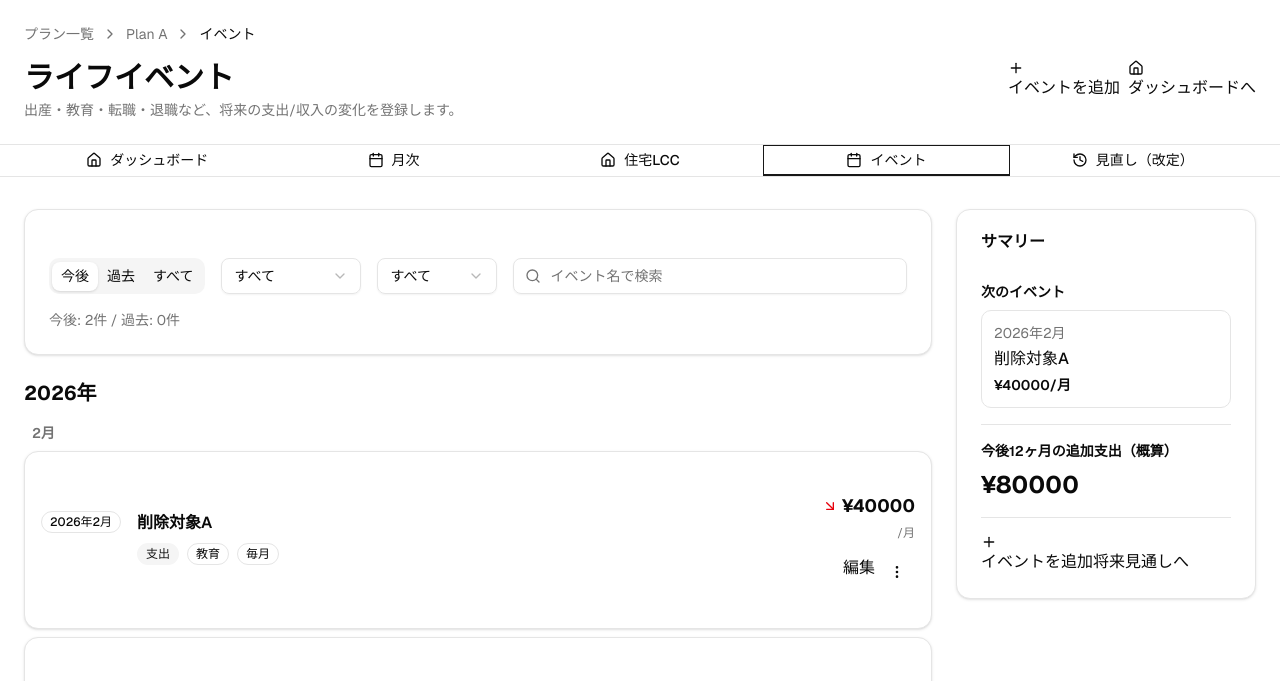
Test case: EventsPage › deletes an event after confirmation
Check: the heading "削除対象A" is shown, box left=137, top=511, right=212, bottom=535
Click the button named "メニュー". click: click(897, 572)
box: left=879, top=556, right=915, bottom=588
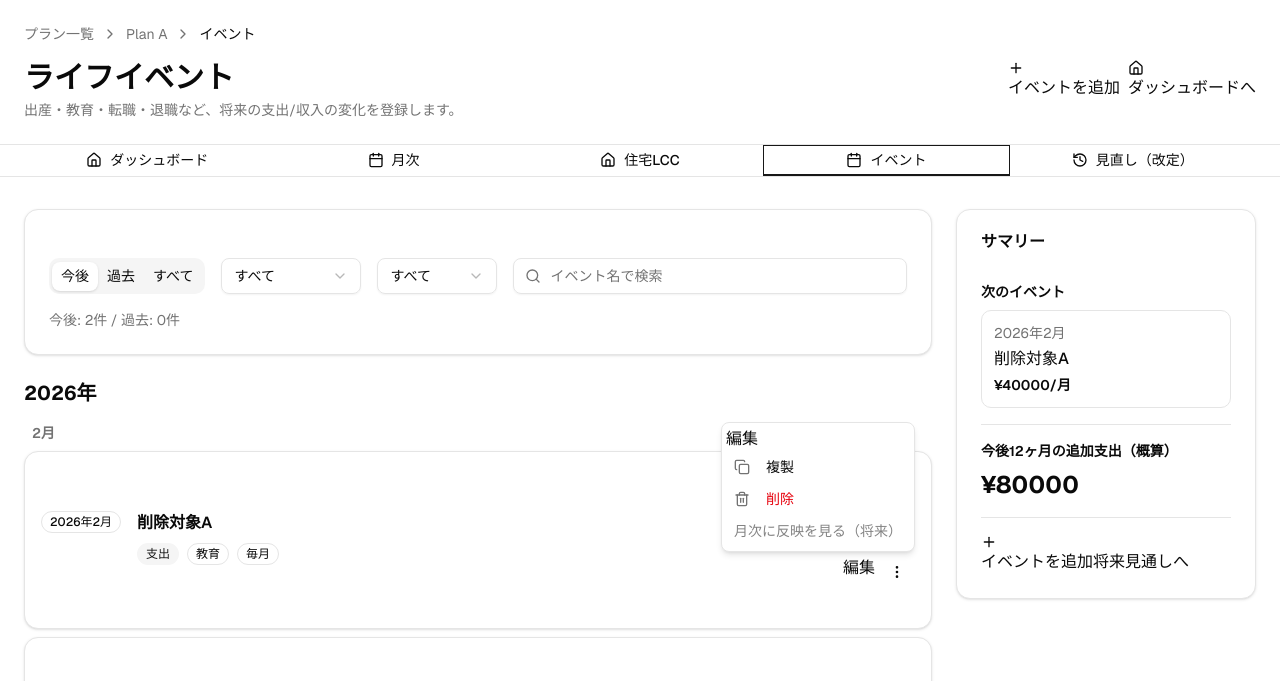
Click the menu item "削除". click: click(764, 499)
box: left=734, top=490, right=794, bottom=508
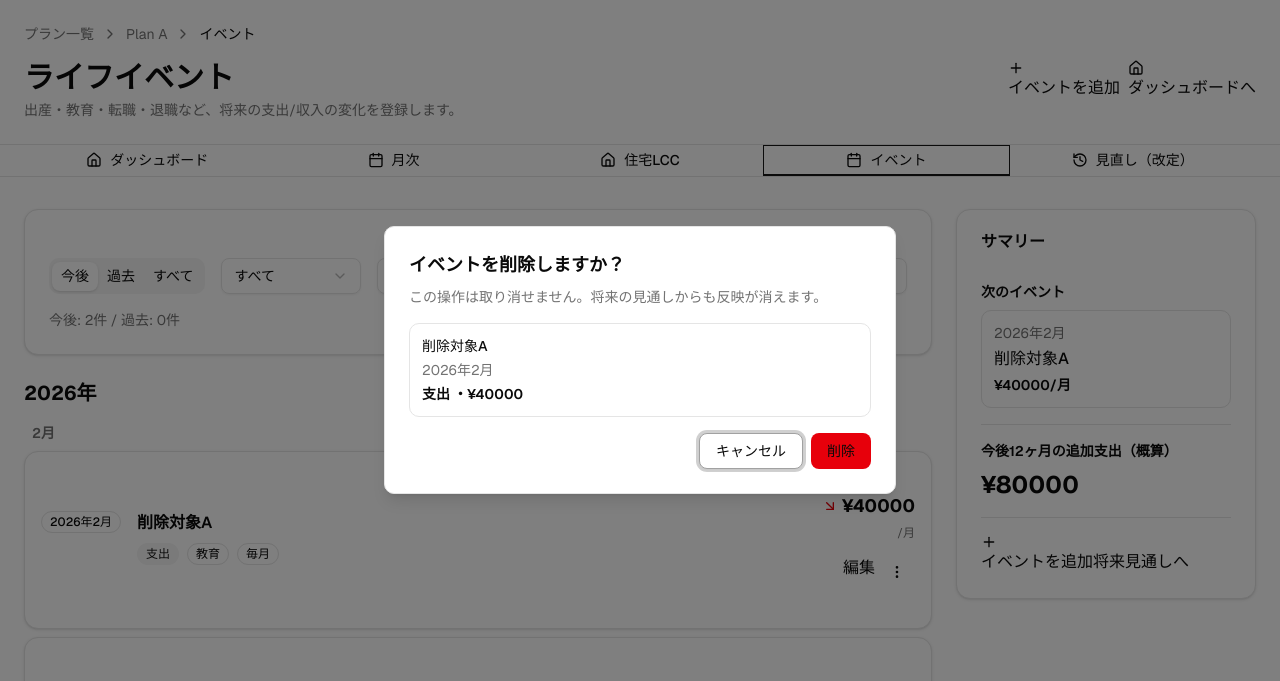
Check: the heading "イベントを削除しますか？" is shown, box left=409, top=253, right=625, bottom=276
Click the button "削除". click: click(841, 451)
box: left=811, top=433, right=871, bottom=469
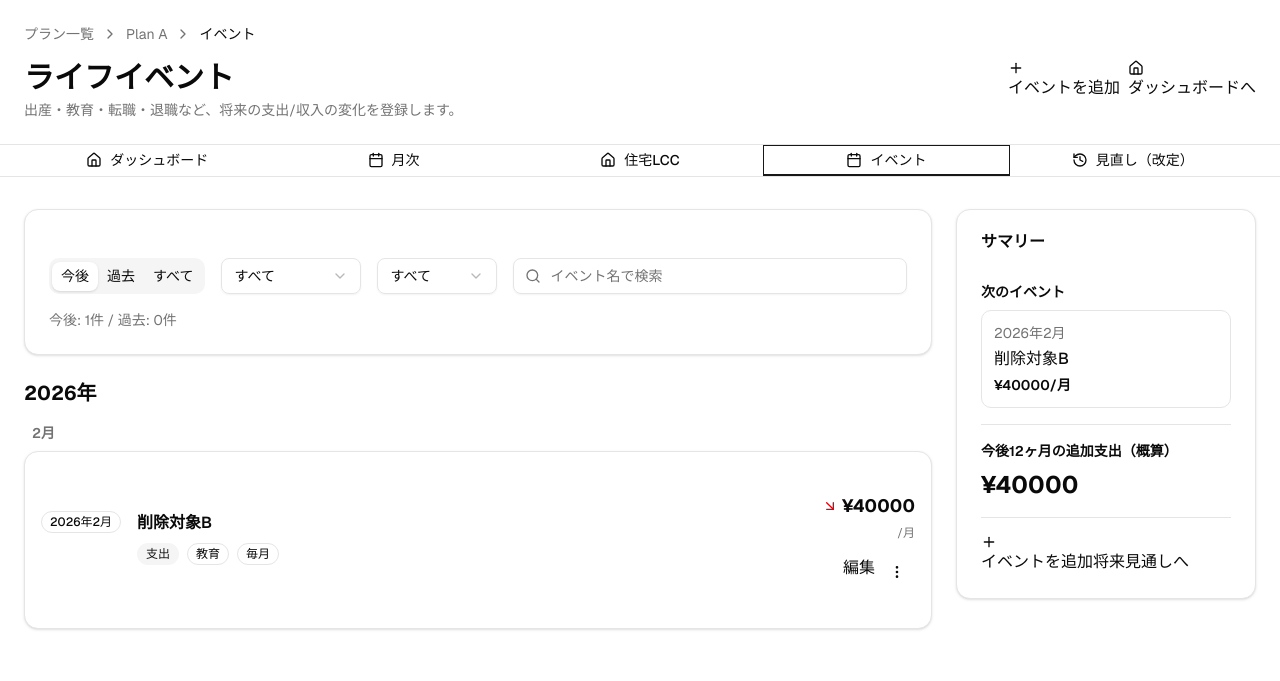
Check: the heading "削除対象B" is shown, box left=137, top=511, right=212, bottom=535
Check: no headings "削除対象A" are shown
